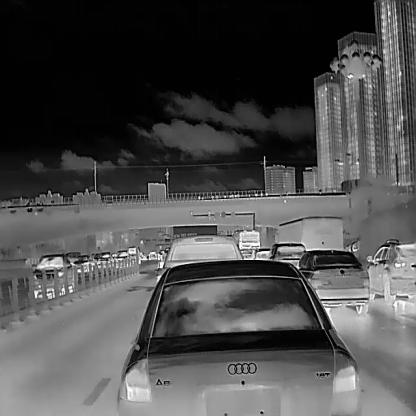bus: (274, 216, 343, 250), (235, 228, 260, 255)
car: (116, 259, 361, 415), (297, 248, 370, 314), (366, 238, 416, 303), (31, 254, 72, 296), (69, 252, 99, 274), (97, 252, 113, 268)
truck: (125, 245, 140, 266), (114, 249, 128, 267)
